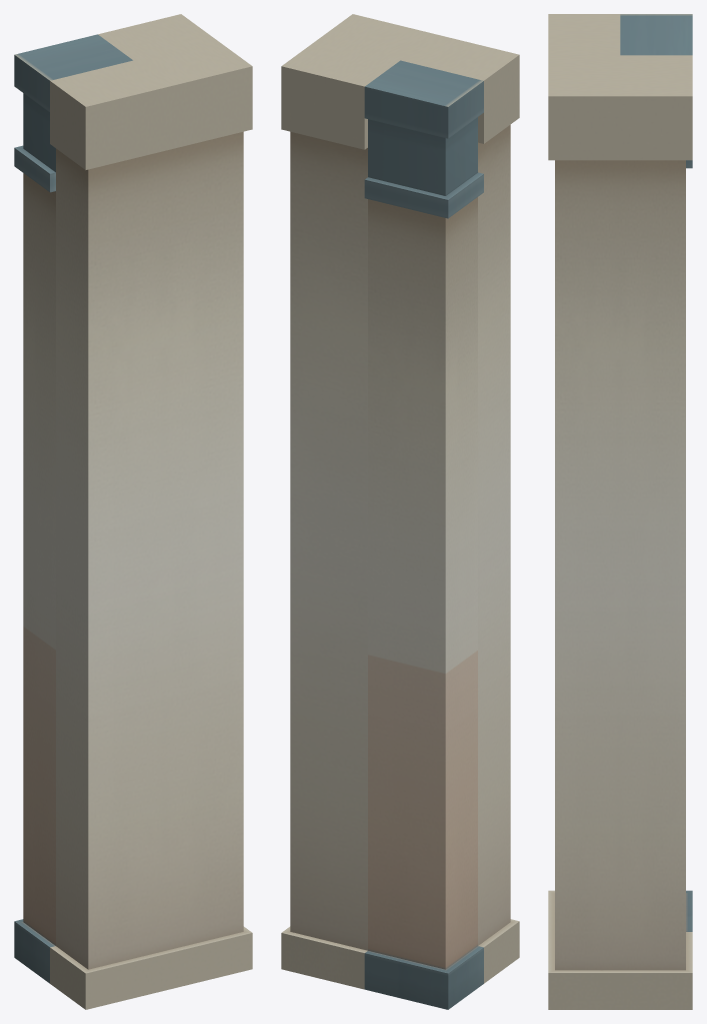
File: SHW_Pillar_01_09.fbx
The picture shows the model from 3 angles, left to right: view 1: azimuth 30°, elevation 25°; view 2: azimuth 150°, elevation 25°; view 3: azimuth 270°, elevation 25°; orthographic projection.
Visible parts, largest first — view 1: shw_pillar_01_09; view 2: shw_pillar_01_09; view 3: shw_pillar_01_09.
Boxes of the visible parts, left/top/right/bottom form: shw_pillar_01_09: left=14, top=14, right=252, bottom=1009; shw_pillar_01_09: left=281, top=14, right=519, bottom=1009; shw_pillar_01_09: left=548, top=14, right=692, bottom=1009.
Size of the model in its own units: 58 by 300 by 43.
